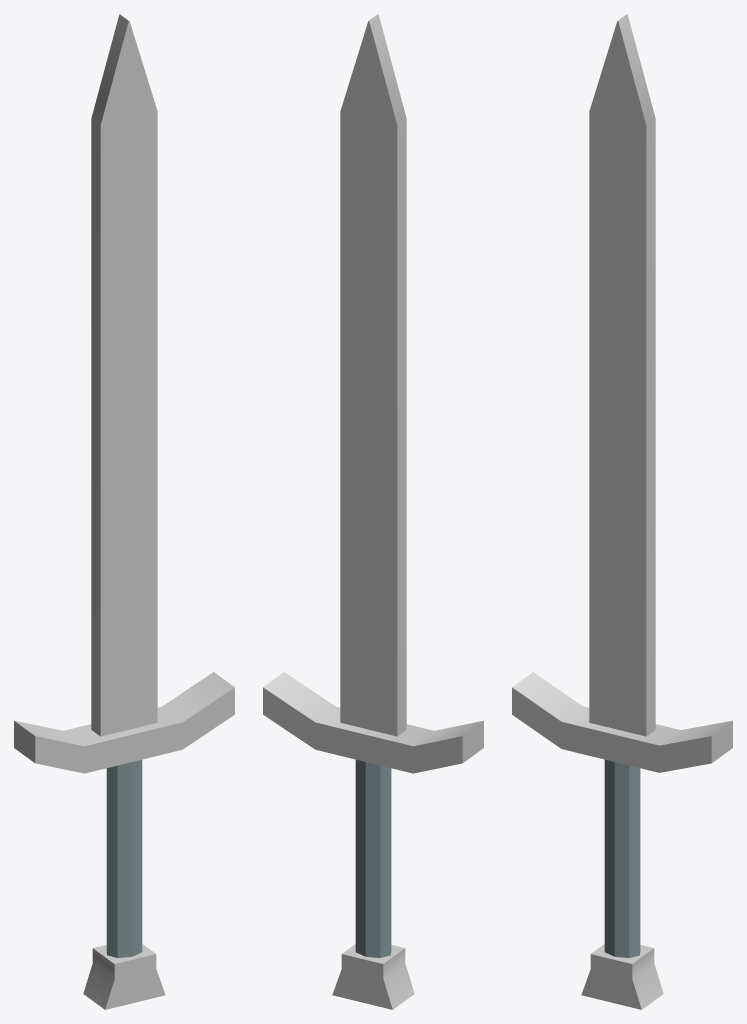
Rendered from Mirror 1.fbx.
3 views of the same model, side by side, from view 1: azimuth 30°, elevation 25°; view 2: azimuth 150°, elevation 25°; view 3: azimuth 330°, elevation 25° (orthographic).
Visible parts, largest first — view 1: pCube4; view 2: pCube4; view 3: pCube4.
Boxes of the visible parts, x1,y1,x2,y2 form: pCube4: [14, 14, 234, 1009]; pCube4: [263, 14, 483, 1009]; pCube4: [512, 14, 732, 1009].
Size of the model in its own units: 3.5 by 16.35 by 0.6649.
